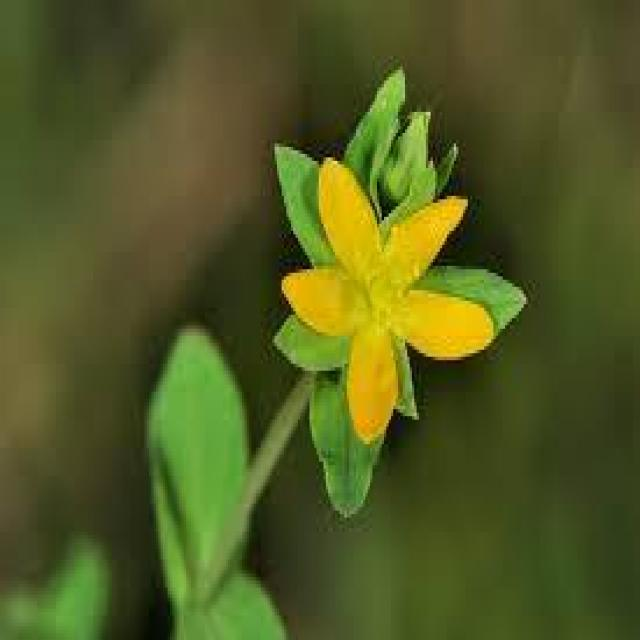organic waste: (264, 110, 511, 446)
